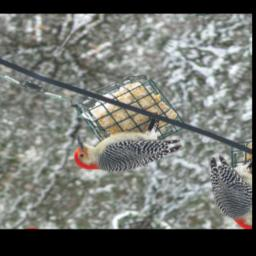Woodpecker: (62, 98, 194, 193)
